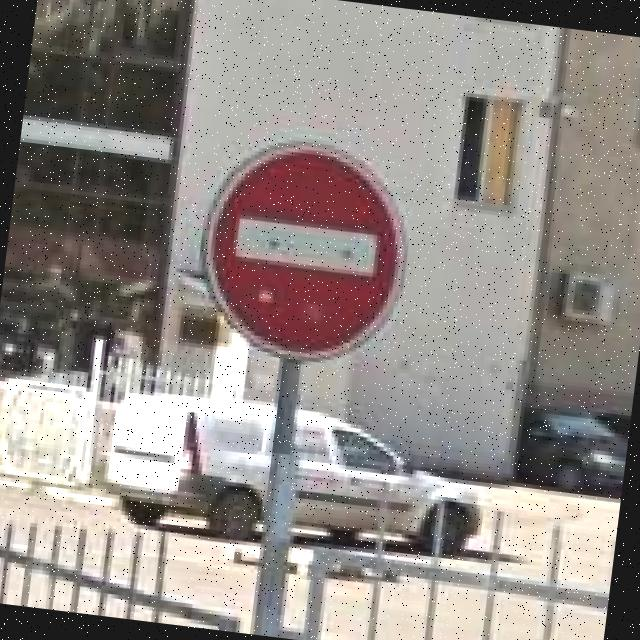Zakaz wjazdu: (191, 130, 419, 374)
